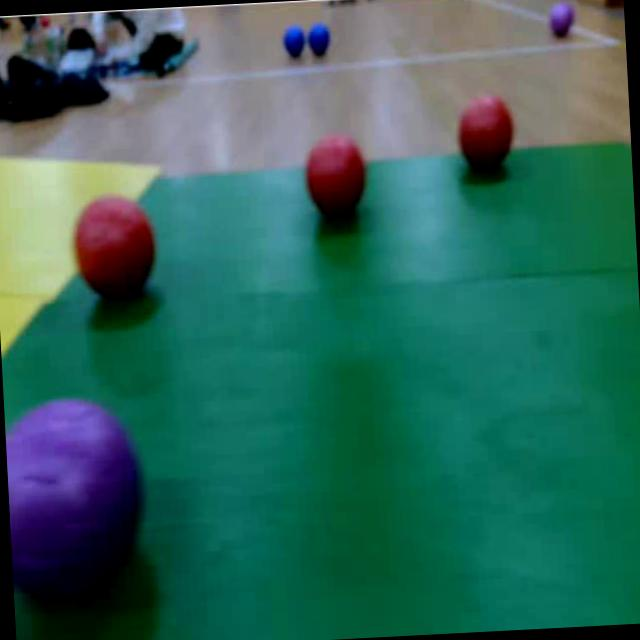blue_ball: (306, 22, 333, 59), (281, 24, 306, 61)
purple_ball: (3, 384, 156, 626), (547, 0, 577, 39)
red_ball: (70, 192, 162, 310), (301, 136, 375, 226), (452, 90, 520, 179)
